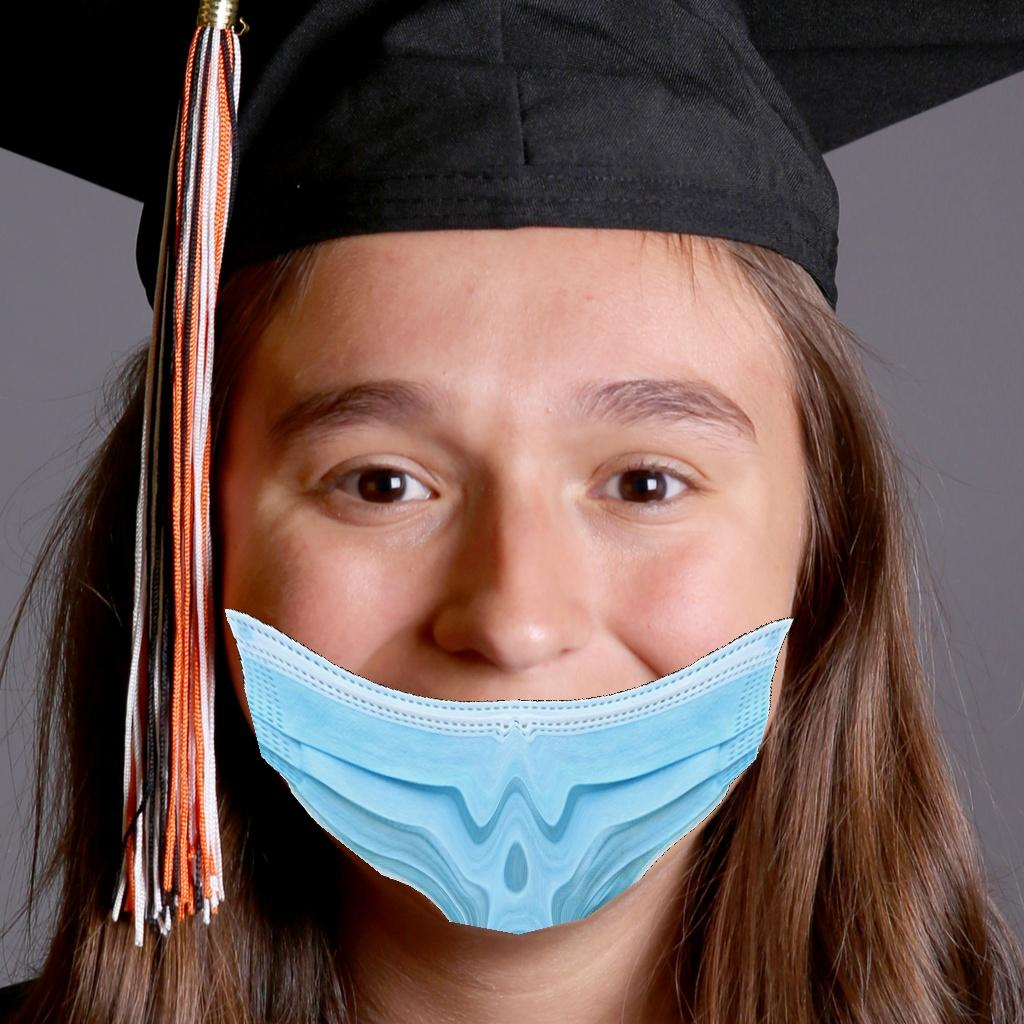Máscara Incorreta: (184, 261, 857, 932)
